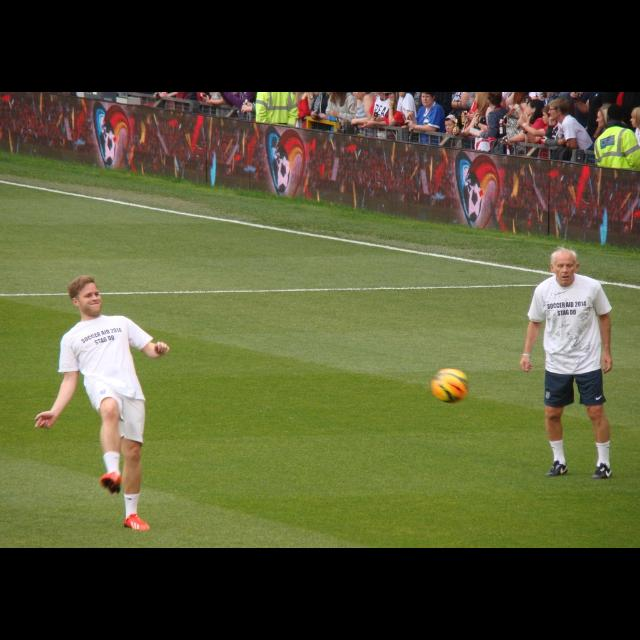Football: (432, 366, 468, 402)
